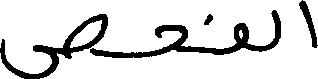X: (0, 9, 102, 78), (156, 20, 184, 60), (301, 0, 317, 52), (235, 18, 247, 56), (272, 5, 278, 52)
